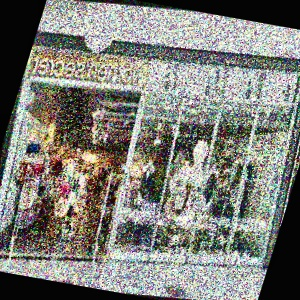women_secret: (138, 36, 160, 96)
